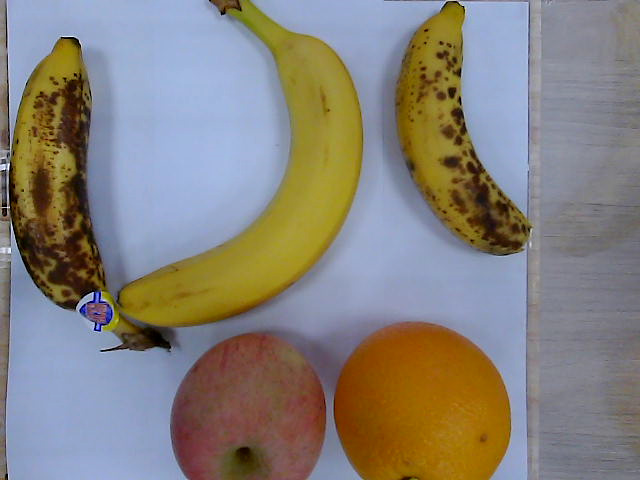fresh_apple: (170, 334, 326, 480)
fresh_banana: (122, 1, 365, 335)
fresh_orange: (334, 323, 514, 480)
rotten_banana: (9, 37, 174, 357), (395, 2, 535, 257)
